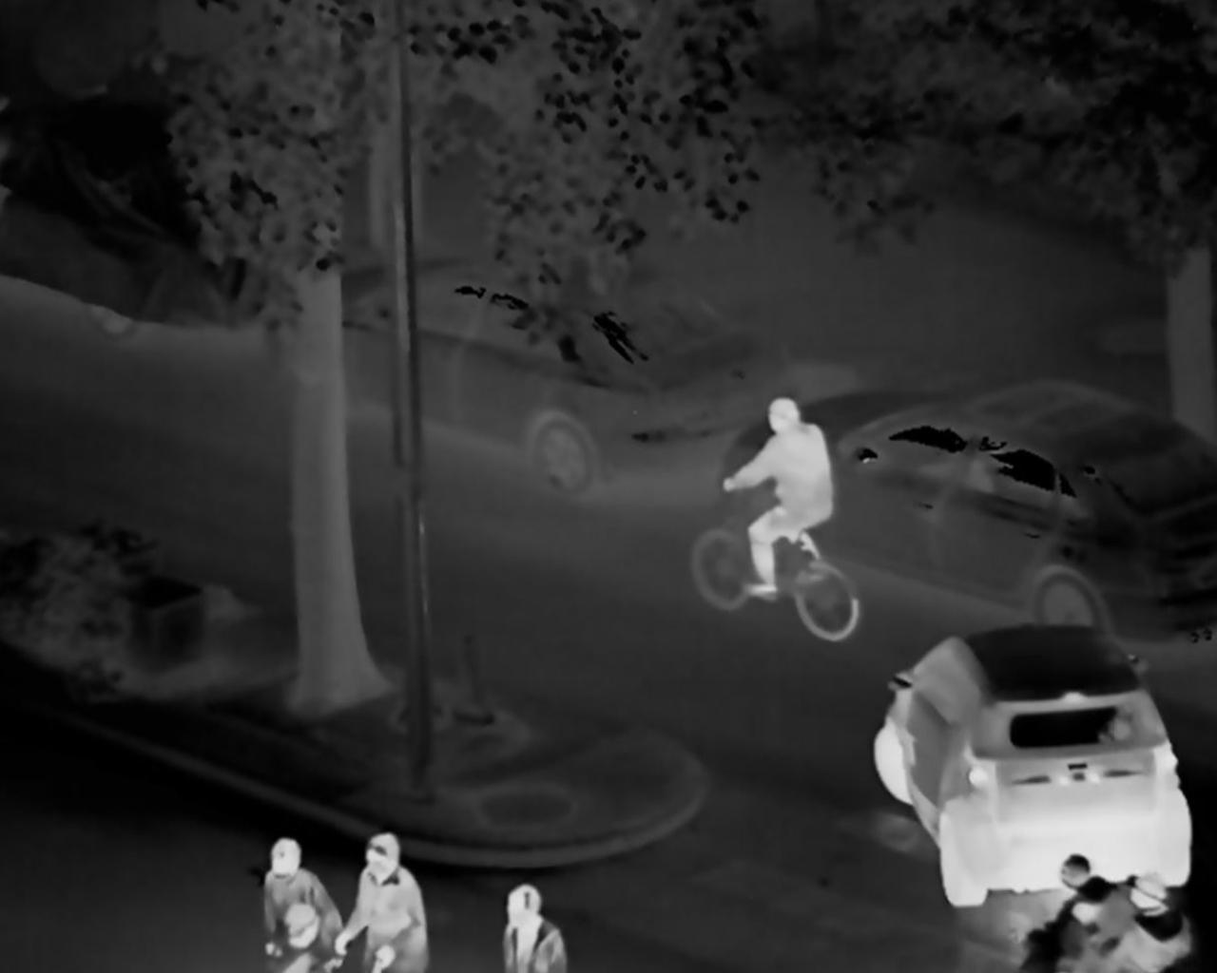person: (712, 395, 842, 619), (341, 834, 432, 973), (259, 835, 341, 973), (1038, 852, 1123, 973), (1114, 866, 1192, 973), (500, 886, 580, 973)
